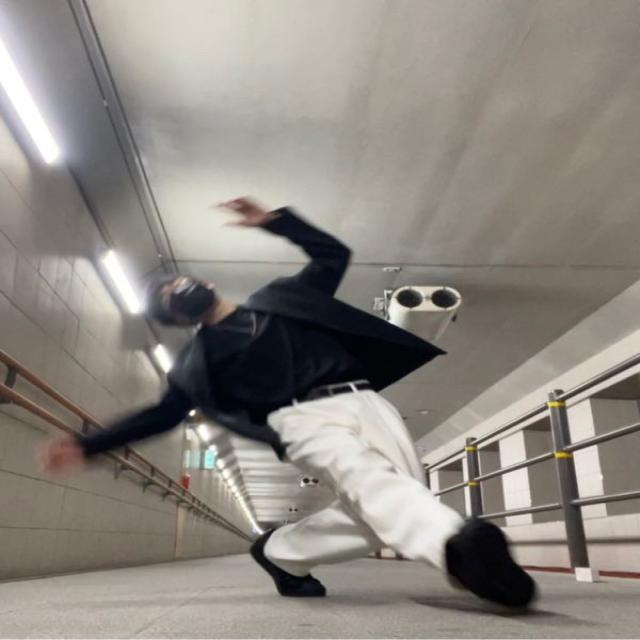blazer: (71, 206, 456, 469)
cottonpants: (262, 379, 470, 589)
